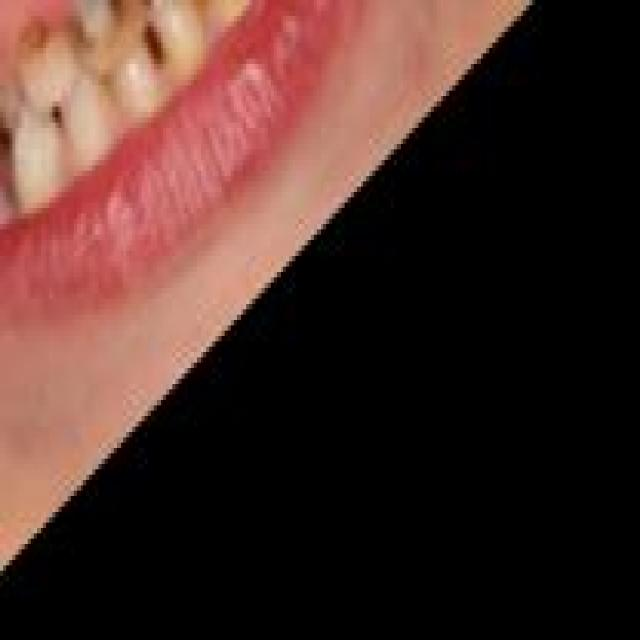caries: (13, 19, 77, 104), (77, 0, 151, 64)
